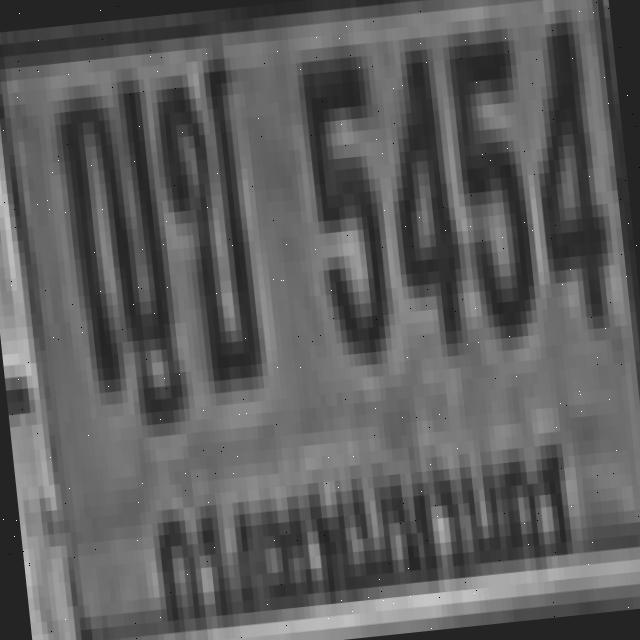19ChorChang: (149, 45, 260, 384)
22YorYing: (47, 66, 178, 394)
4: (516, 9, 608, 321), (376, 36, 462, 348)
5: (294, 44, 392, 356), (442, 17, 534, 328)
Bangkok: (134, 419, 594, 628)
